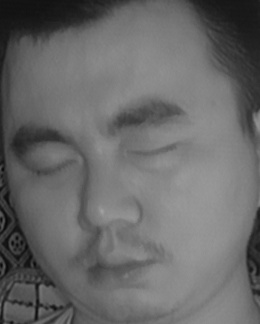blink: (126, 129, 189, 168), (30, 148, 77, 185)
mouth: (73, 236, 163, 295)
